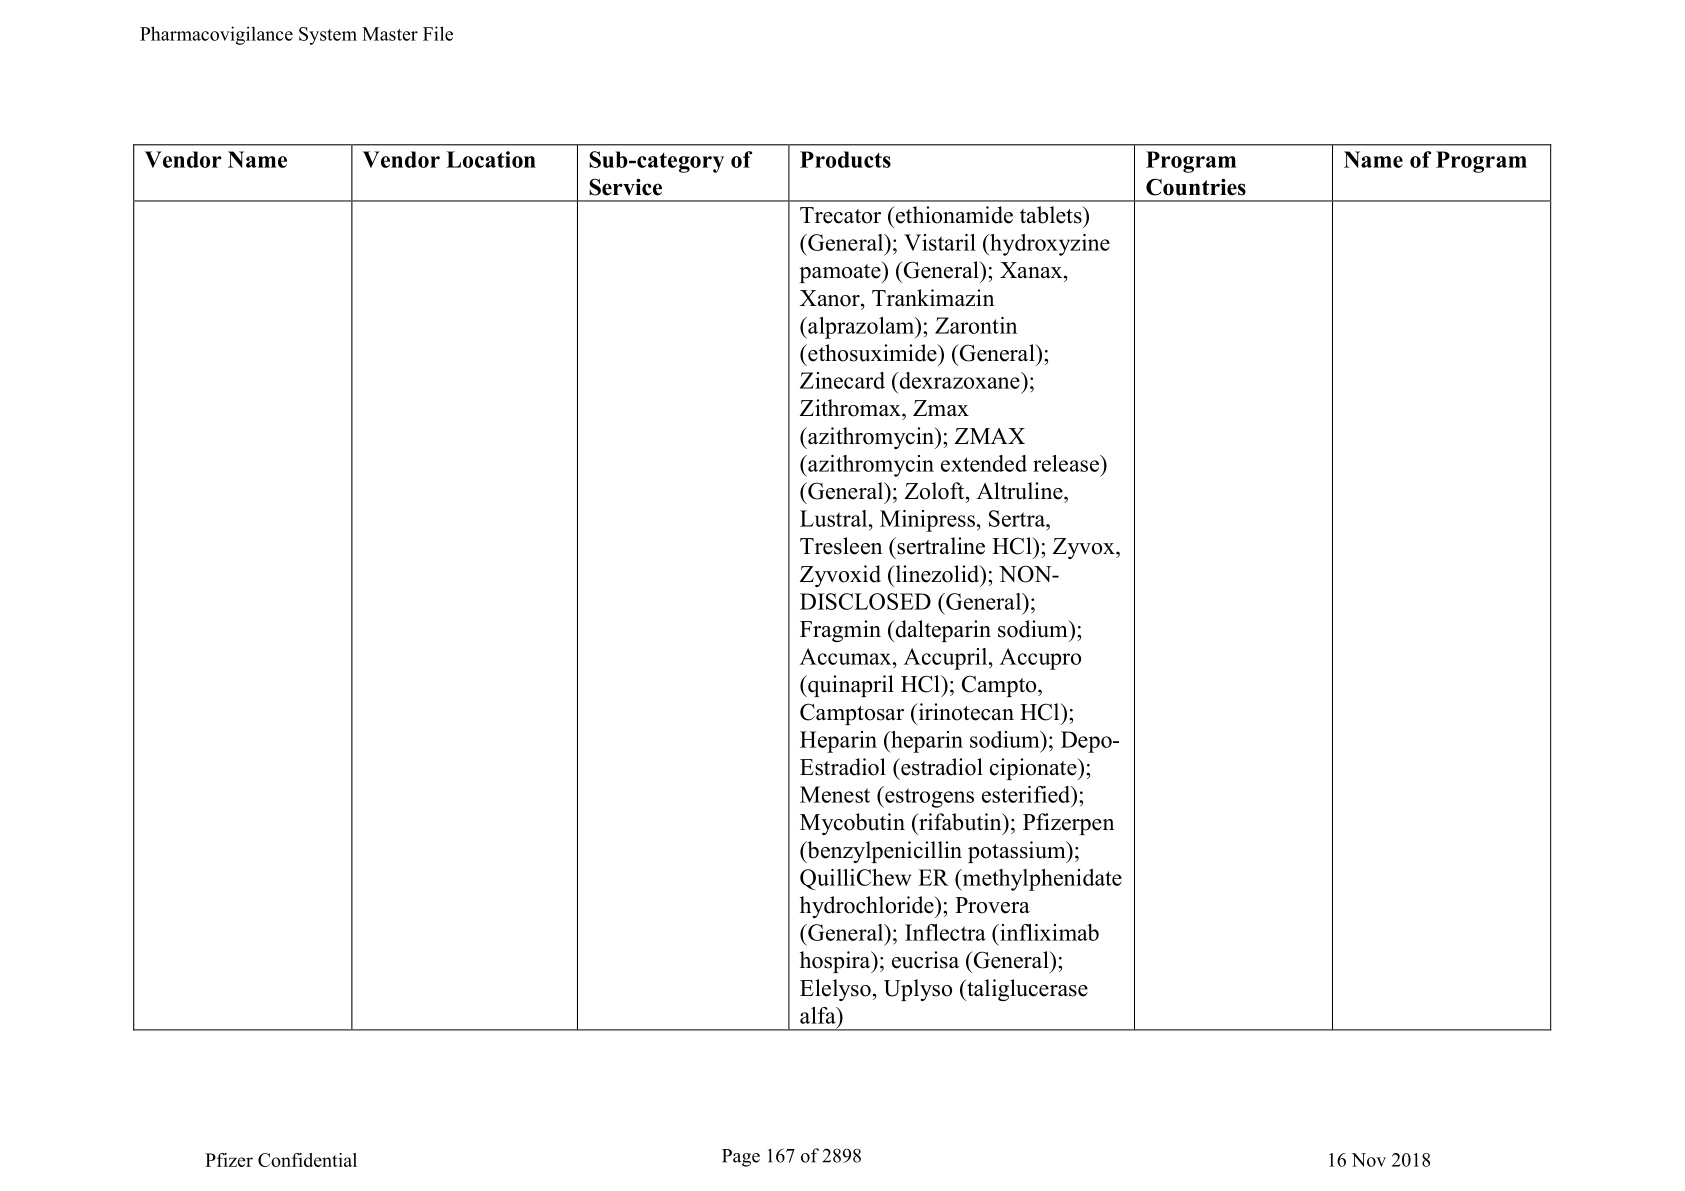full_lined: (122, 137, 1556, 1041)
